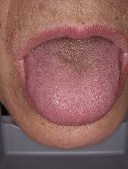tongue: (25, 47, 120, 127)
